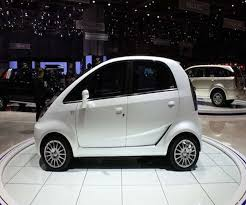Nano: (31, 55, 201, 171)
